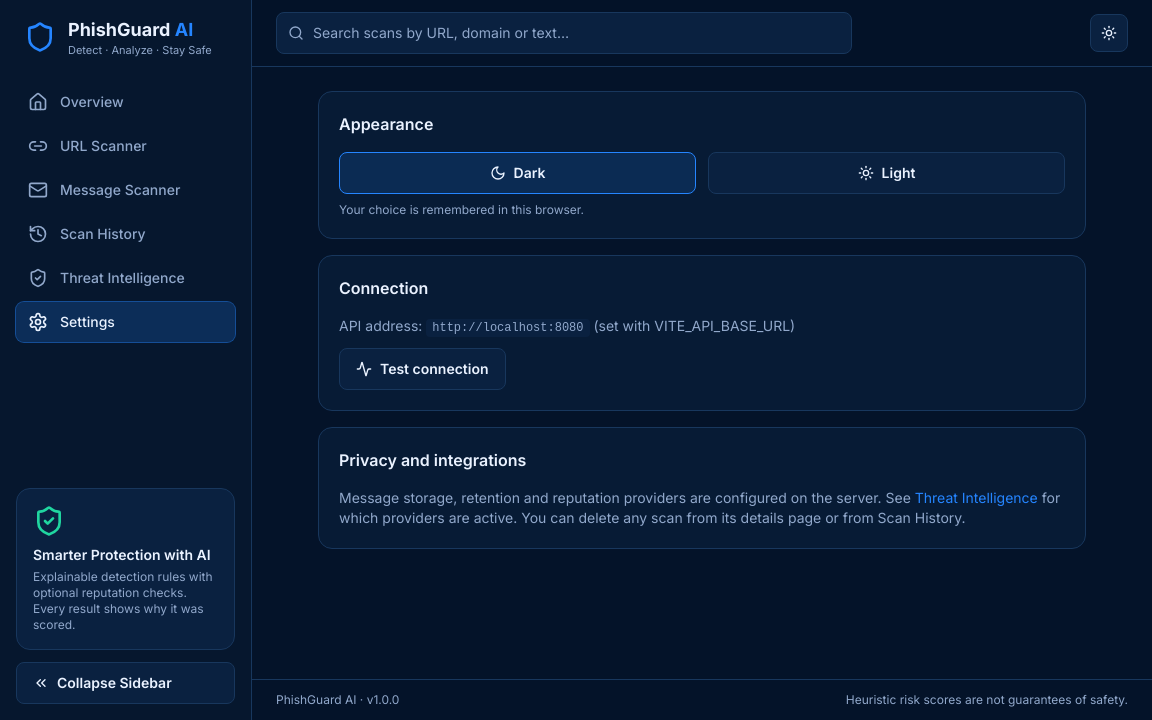
Test: shell › toggles and persists the theme, and global search routes to history
Click the button named "Switch to light theme" at (1109, 33), box 1090,14 -> 1128,52
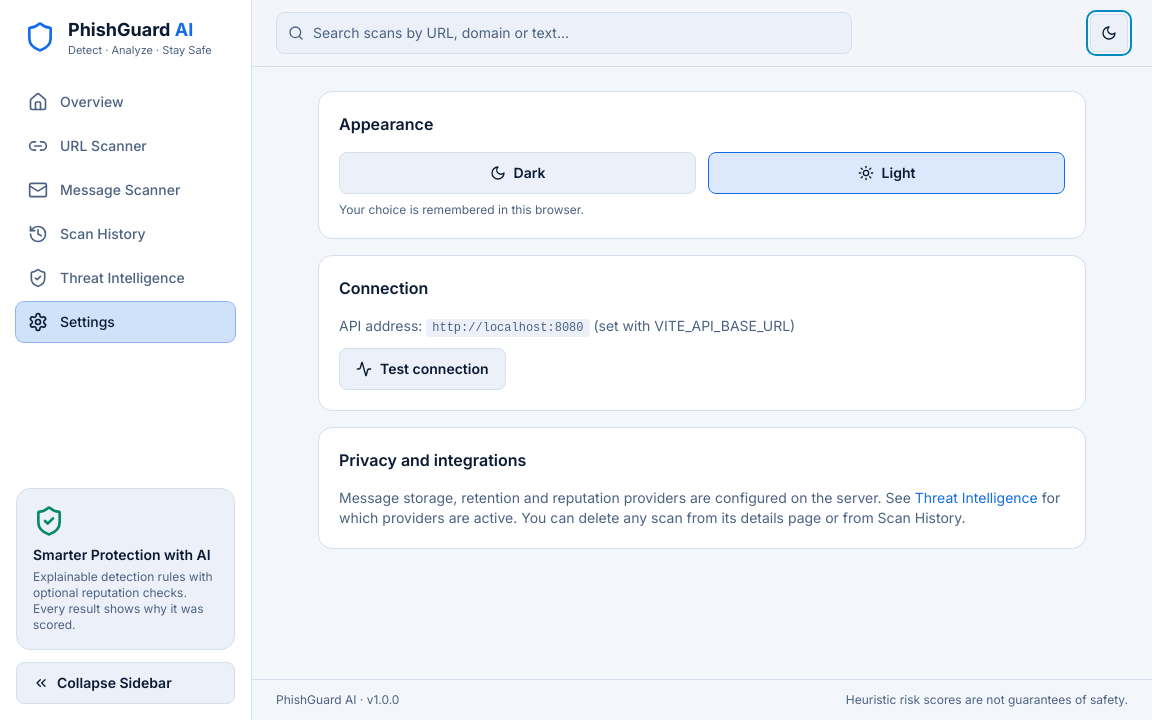
Type "paypal" into the field labelled "Search scans" at (564, 33), box 276,12 -> 852,54
Then press Enter
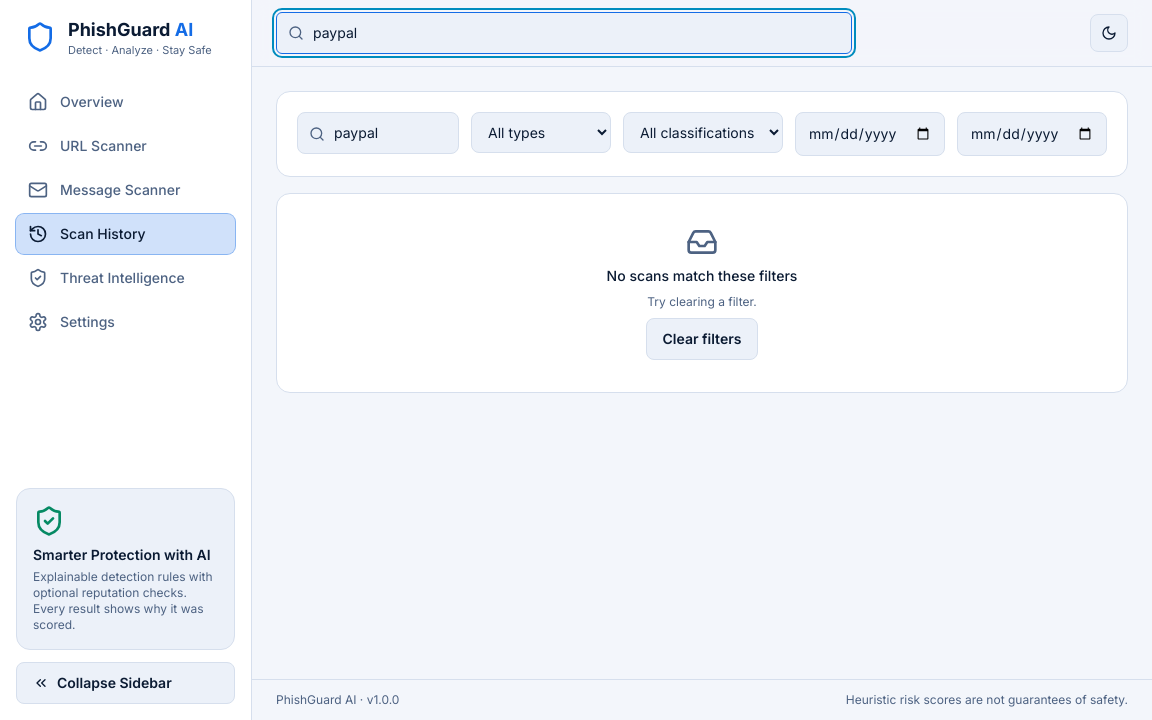
Check: the 2nd field named "Search history" holds "paypal", box 297,112 -> 459,154
